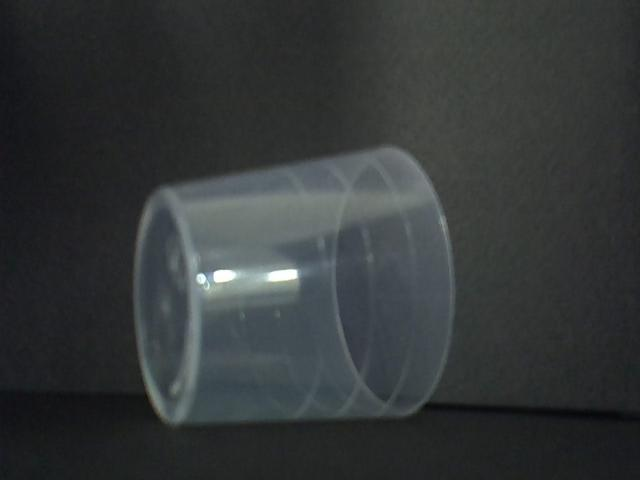cup: (133, 140, 461, 428)
